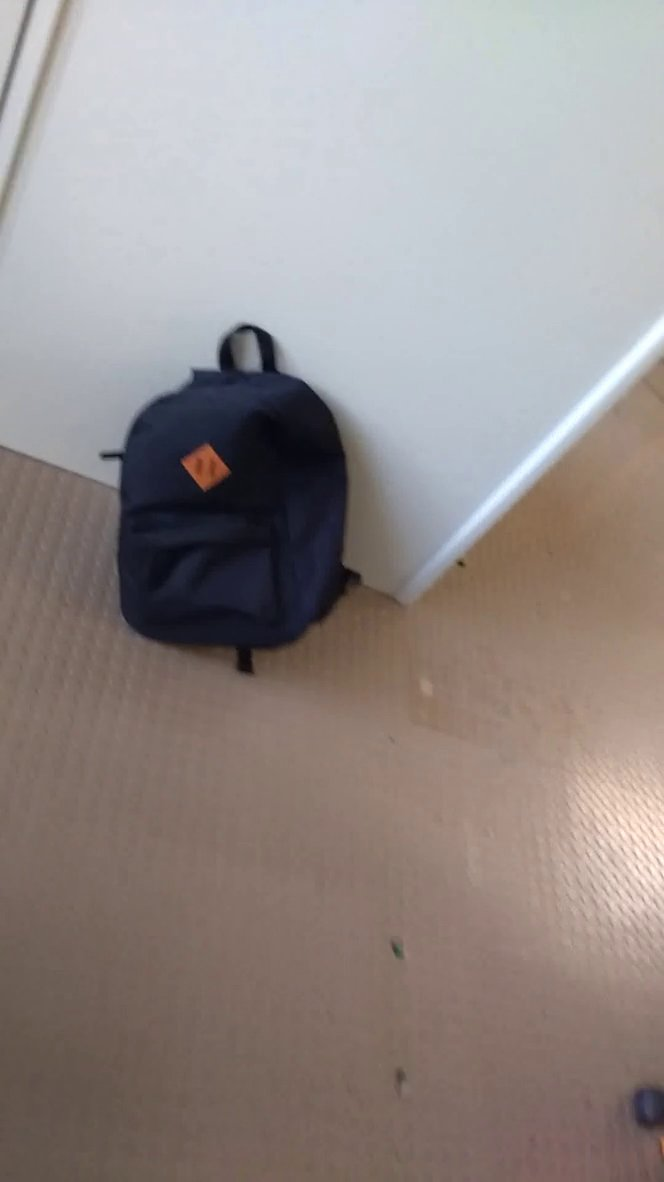bag: (86, 318, 396, 680)
